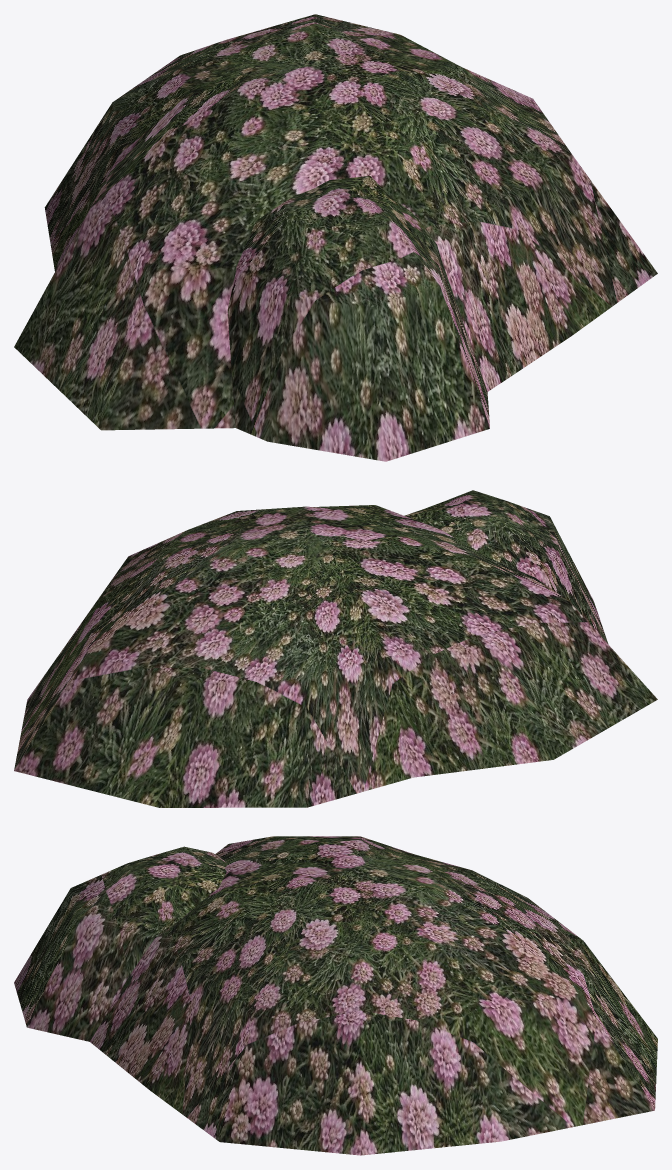
Rendered from veg_thrift_cushion.glb.
The picture shows the model from 3 angles, top to bottom: view 1: azimuth 30°, elevation 25°; view 2: azimuth 150°, elevation 25°; view 3: azimuth 270°, elevation 25°; orthographic projection. The views are drawn at different scales.
Parts seen in each view (by area): view 1: veg_thrift_cushion; view 2: veg_thrift_cushion; view 3: veg_thrift_cushion.
Boxes of the visible parts, <box> form: veg_thrift_cushion: <box>14,14,657,461</box>; veg_thrift_cushion: <box>14,490,657,807</box>; veg_thrift_cushion: <box>14,836,657,1155</box>.
Bounding box in the file's own units: 0.6152 × 0.2 × 0.681.
1 material, 1 textured.
